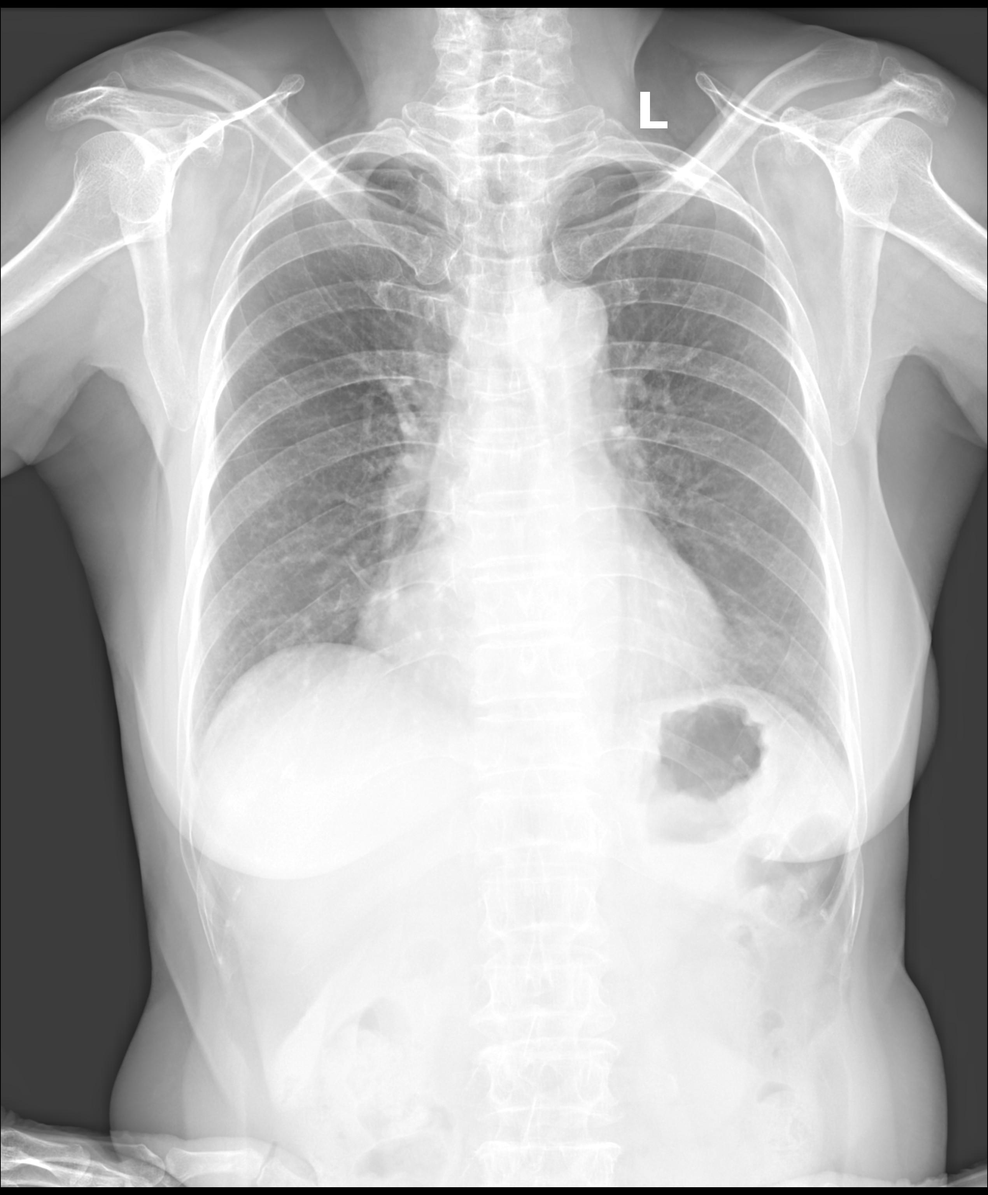Aortic enlargement: (519, 282, 612, 357)
Cardiomegaly: (348, 578, 741, 710)
